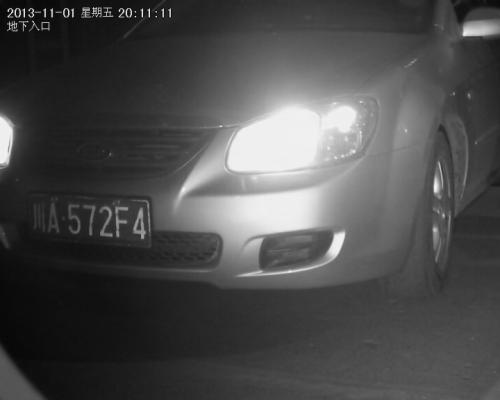Carplate: (19, 191, 159, 253)
